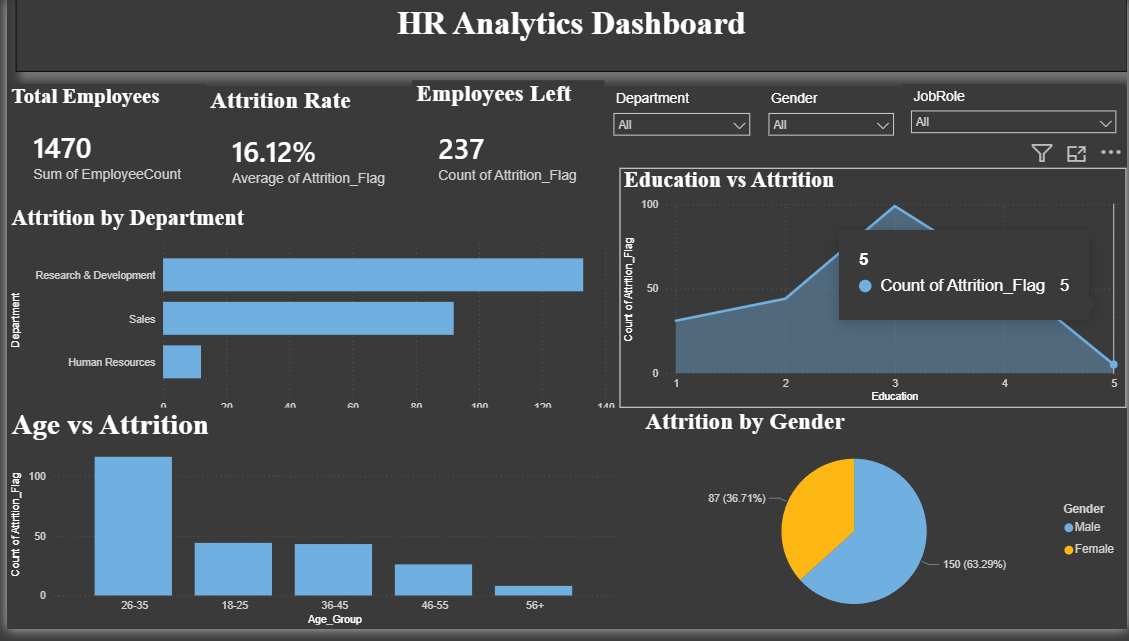

The page's visual inventory and layout, read from the dashboard file:
{"tool":"powerbi","page":{"name":"HR Analytics Dashboard","canvas":[1280,720],"ordinal":0},"visuals":[{"type":"textbox","box":[10,0,1270,83],"z":0},{"type":"cardVisual","title":"Total Employees","fields":{"Data":["Sum(Sheet1.EmployeeCount)","select","select1"]},"box":[0,97,227,135],"z":1000},{"type":"cardVisual","title":"Attrition Rate","fields":{"Data":["Avg(Sheet1.Attrition_Flag)"]},"box":[226.7,100,236.7,135],"z":2000},{"type":"clusteredBarChart","title":"Attrition by Department","fields":{"Category":["Sheet1.Department"],"Y":["CountNonNull(Sheet1.Attrition_Flag)"]},"box":[0,236,700,247],"z":3000},{"type":"pieChart","title":"Attrition by Gender","fields":{"Category":["Sheet1.Gender"],"Y":["CountNonNull(Sheet1.Attrition_Flag)"]},"box":[725,466.7,555,253.3],"z":4000},{"type":"cardVisual","title":"Employees Left","fields":{"Data":["CountNonNull(Sheet1.Attrition_Flag)"]},"box":[463.3,93.3,220,141.7],"z":5000},{"type":"clusteredColumnChart","title":"Age vs Attrition","fields":{"Category":["Sheet1.Age_Group"],"Y":["CountNonNull(Sheet1.Attrition_Flag)"]},"box":[0,466.7,700,253.3],"z":6000},{"type":"areaChart","title":"Education vs Attrition","fields":{"Y":["CountNonNull(Sheet1.Attrition_Flag)"],"Category":["Sheet1.Education"]},"box":[700,193.3,580,273.3],"z":7000},{"type":"slicer","fields":{"Values":["Sheet1.Department"]},"box":[683.3,100,176.7,60],"z":8000},{"type":"slicer","fields":{"Values":["Sheet1.Gender"]},"box":[860,100,163.3,71.7],"z":9000},{"type":"slicer","fields":{"Values":["Sheet1.JobRole"]},"box":[1023.3,96.7,255,66.7],"z":10000}]}

Visuals, with their boxes in screenshot pixels (x1, y1, x2, y2), scaled from the page's 1280x720 canvas onto the 1129x641 screenshot:
textbox: BBox(9, 0, 1128, 74)
"Total Employees" cardVisual: BBox(0, 86, 200, 207)
"Attrition Rate" cardVisual: BBox(200, 89, 409, 209)
"Attrition by Department" clusteredBarChart: BBox(0, 210, 617, 430)
"Attrition by Gender" pieChart: BBox(639, 415, 1128, 640)
"Employees Left" cardVisual: BBox(409, 83, 603, 209)
"Age vs Attrition" clusteredColumnChart: BBox(0, 415, 617, 640)
"Education vs Attrition" areaChart: BBox(617, 172, 1128, 415)
slicer - Sheet1.Department: BBox(603, 89, 759, 142)
slicer - Sheet1.Gender: BBox(759, 89, 903, 153)
slicer - Sheet1.JobRole: BBox(903, 86, 1128, 145)
